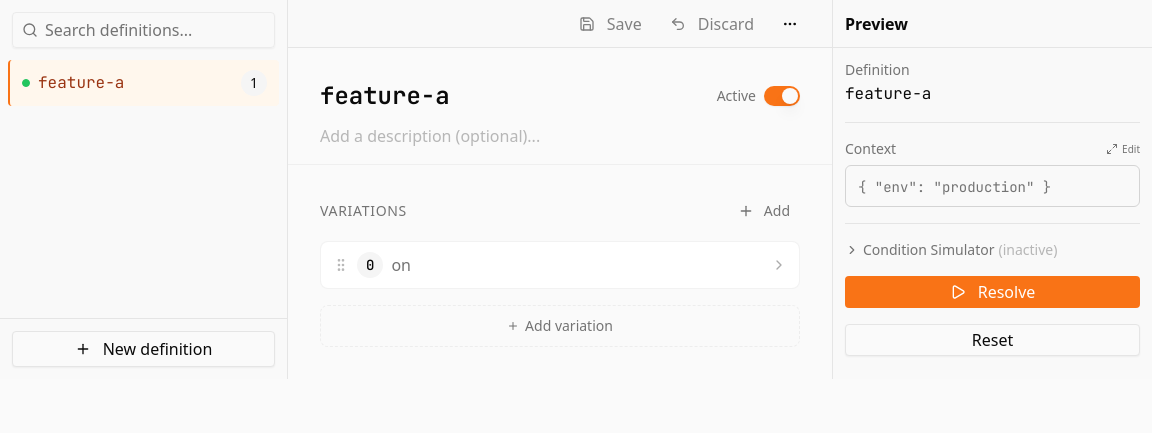
Test: Configurator async action handling › keeps the add-definition form open when addDefinition rejects
Click the button "New definition" at {"x": 144, "y": 349}, box [12, 331, 275, 367]
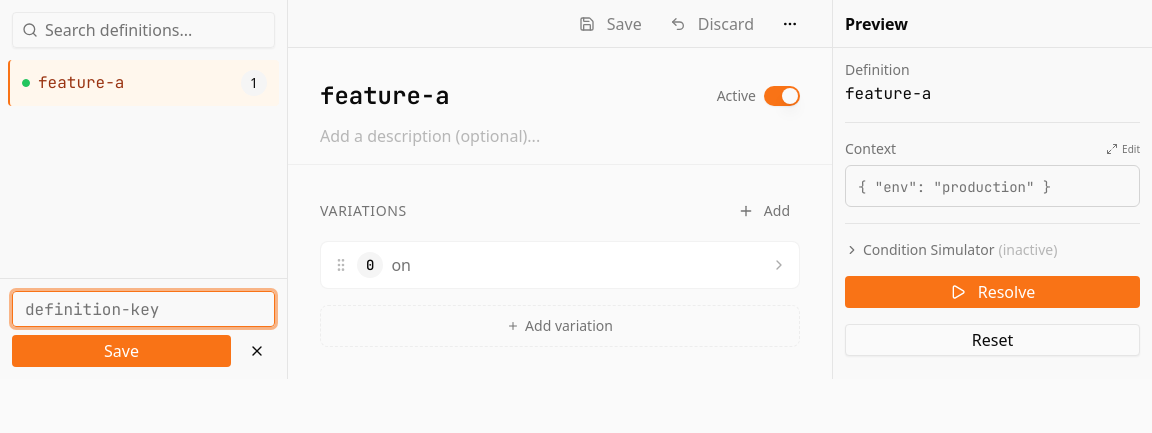
Type "new-flag" into the field with placeholder "definition-key" at {"x": 144, "y": 309}, box [12, 291, 275, 327]
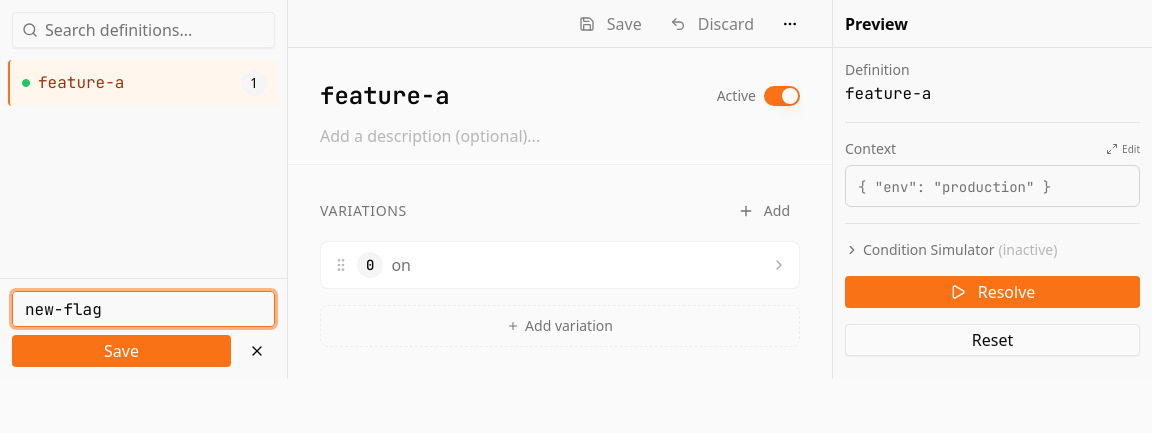
// Submit via Enter to avoid ambiguity with the editor Save button
Press Enter
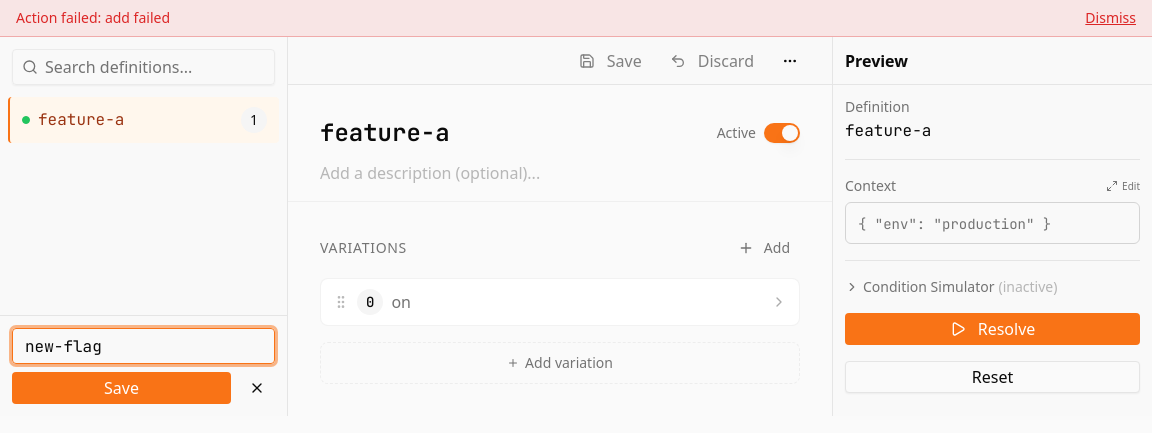
Now the text "Action failed: add failed" is shown, box [16, 8, 170, 28]
